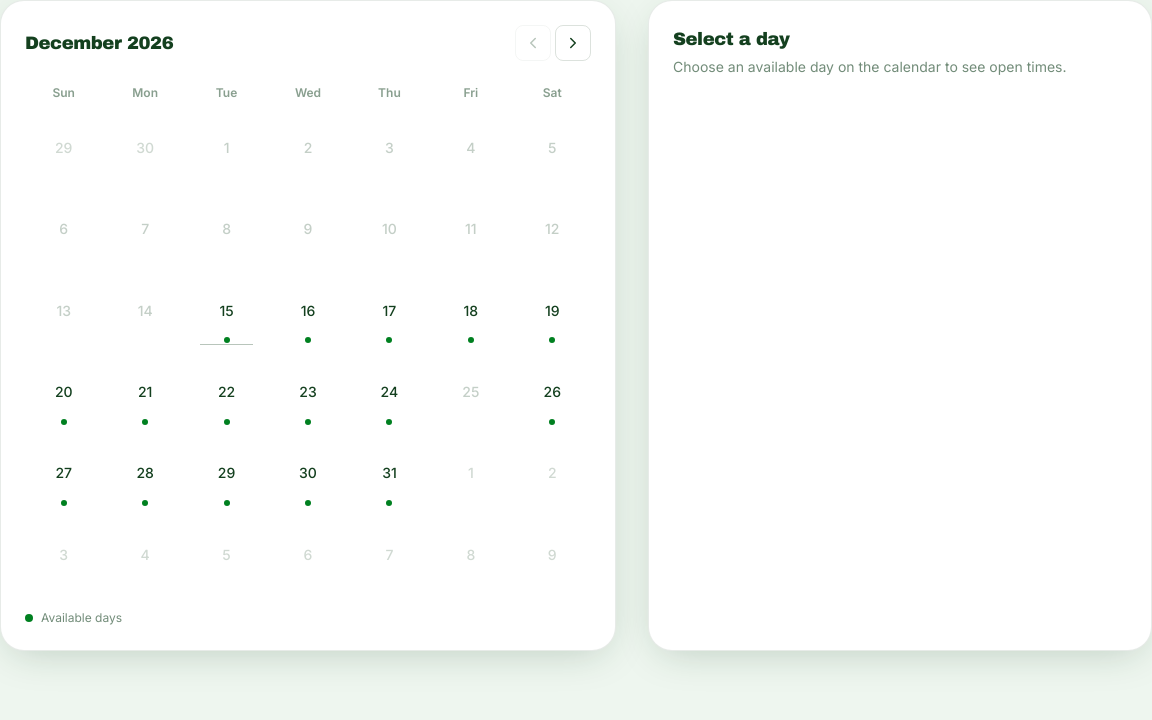
BookingCalendar navigation › disables previous at the current month and wraps across year boundaries
The image size is (1152, 720).
Expected: the heading "December 2026" is shown, [25, 29, 173, 57]
Expected: the button named "Previous month" is disabled, [515, 25, 551, 61]
Click the button named "Next month" at {"x": 573, "y": 43}, box [555, 25, 591, 61]
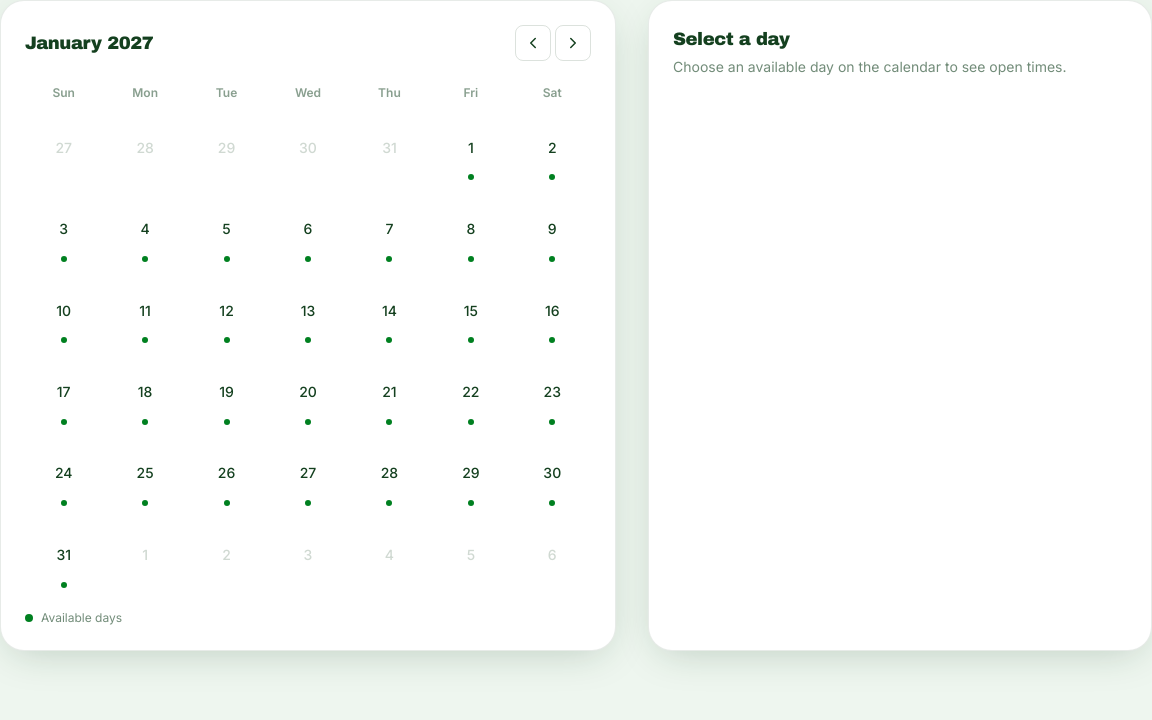
Expected: the heading "January 2027" is shown, [25, 29, 153, 57]
Click the button named "Previous month" at {"x": 533, "y": 43}, box [515, 25, 551, 61]
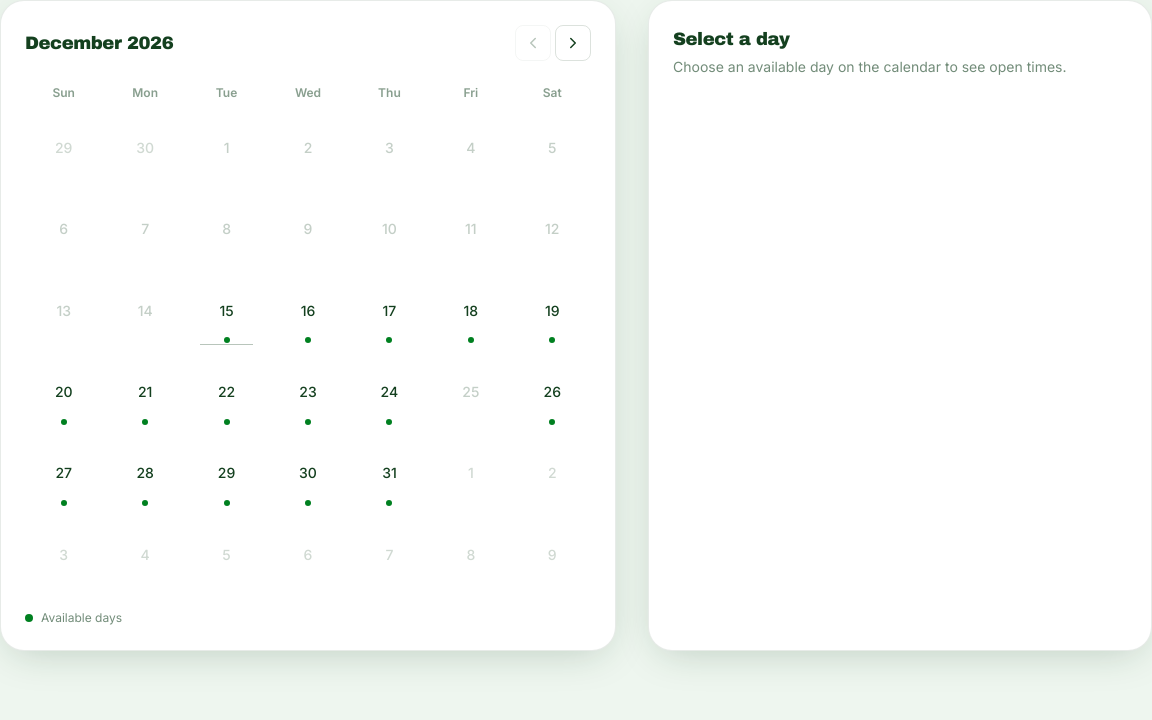
Expected: the heading "December 2026" is shown, [25, 29, 173, 57]
